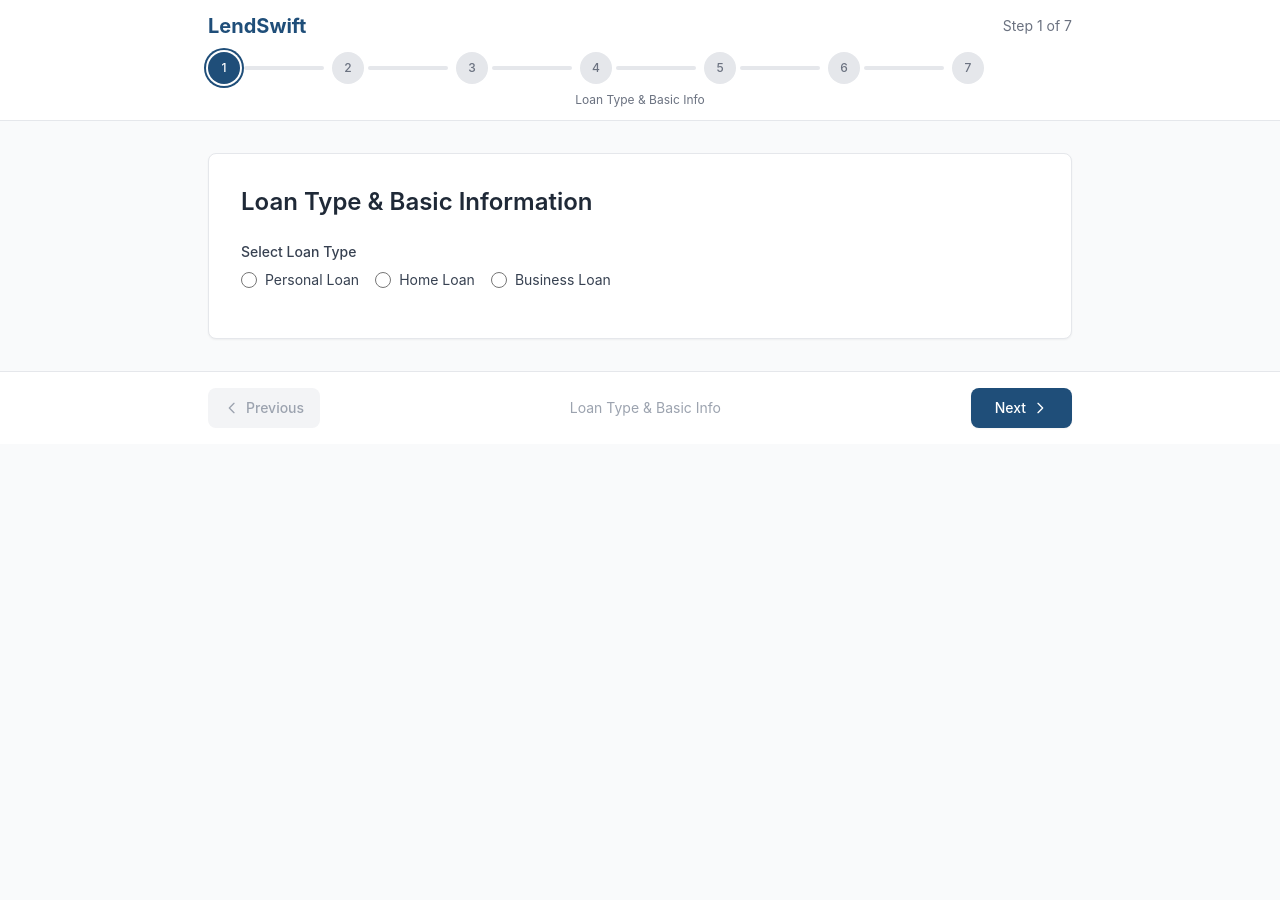
Step 2 - Personal Info Validation › shows all required field errors on empty submit
The width and height of the screenshot is (1280, 900).
Check the radio button labelled "Personal Loan" at coordinates (249, 280), box 241,272 -> 257,288
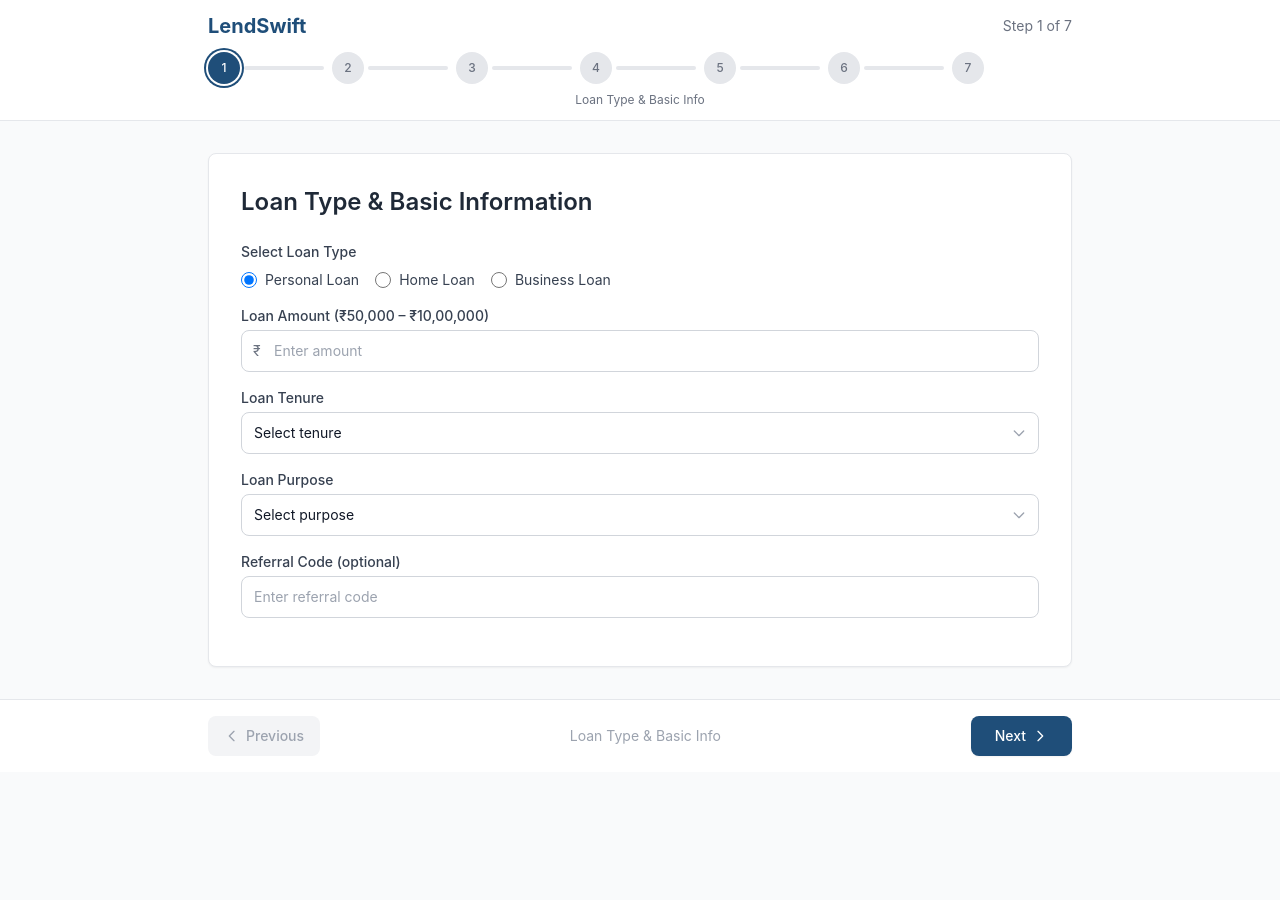
Type "500000" into the field labelled "Loan Amount (₹50,000 – ₹10,00,000)" at coordinates (640, 351), box 241,330 -> 1039,372
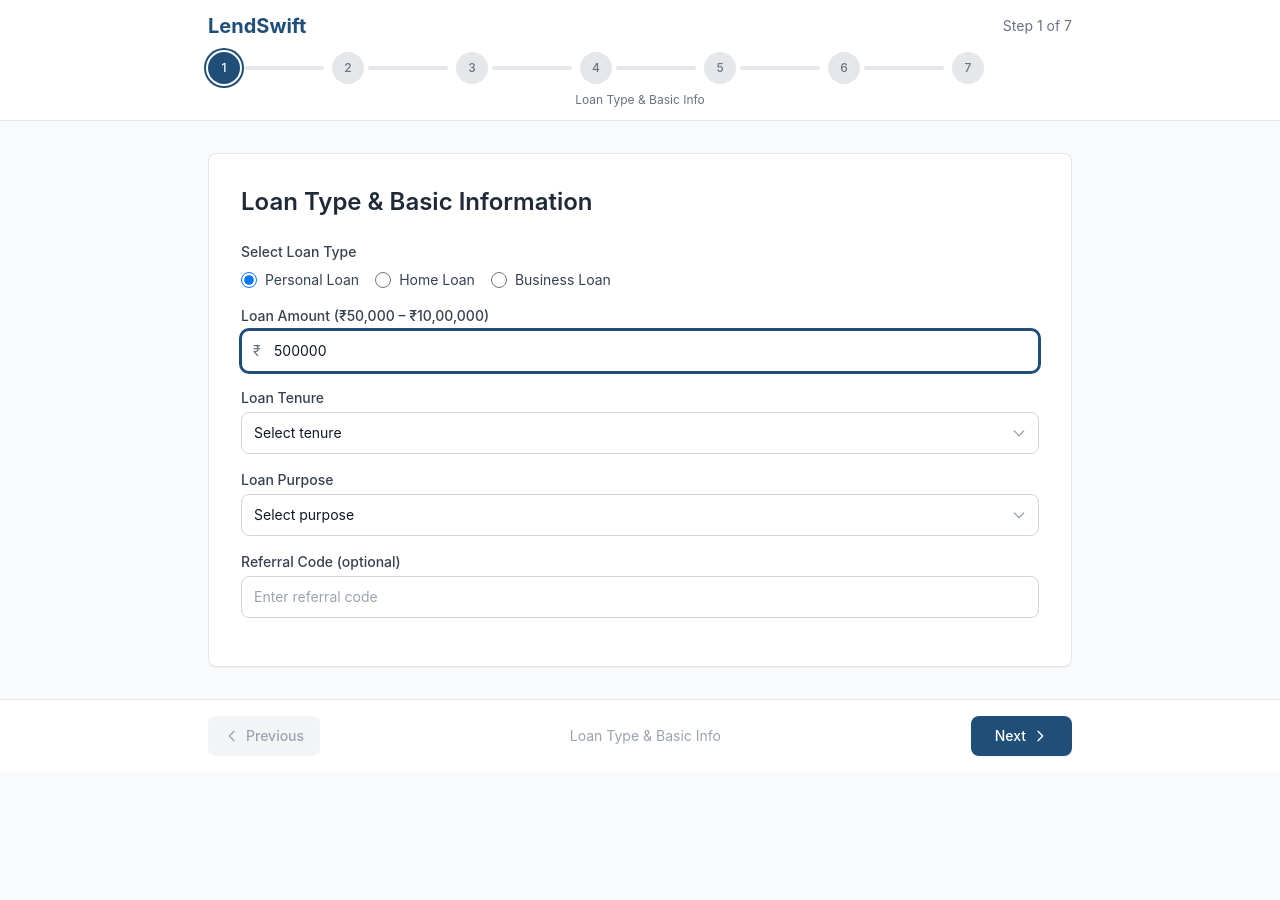
Select "36 months (3yr)" in the dropdown labelled "Loan Tenure" at coordinates (640, 433), box 241,412 -> 1039,454
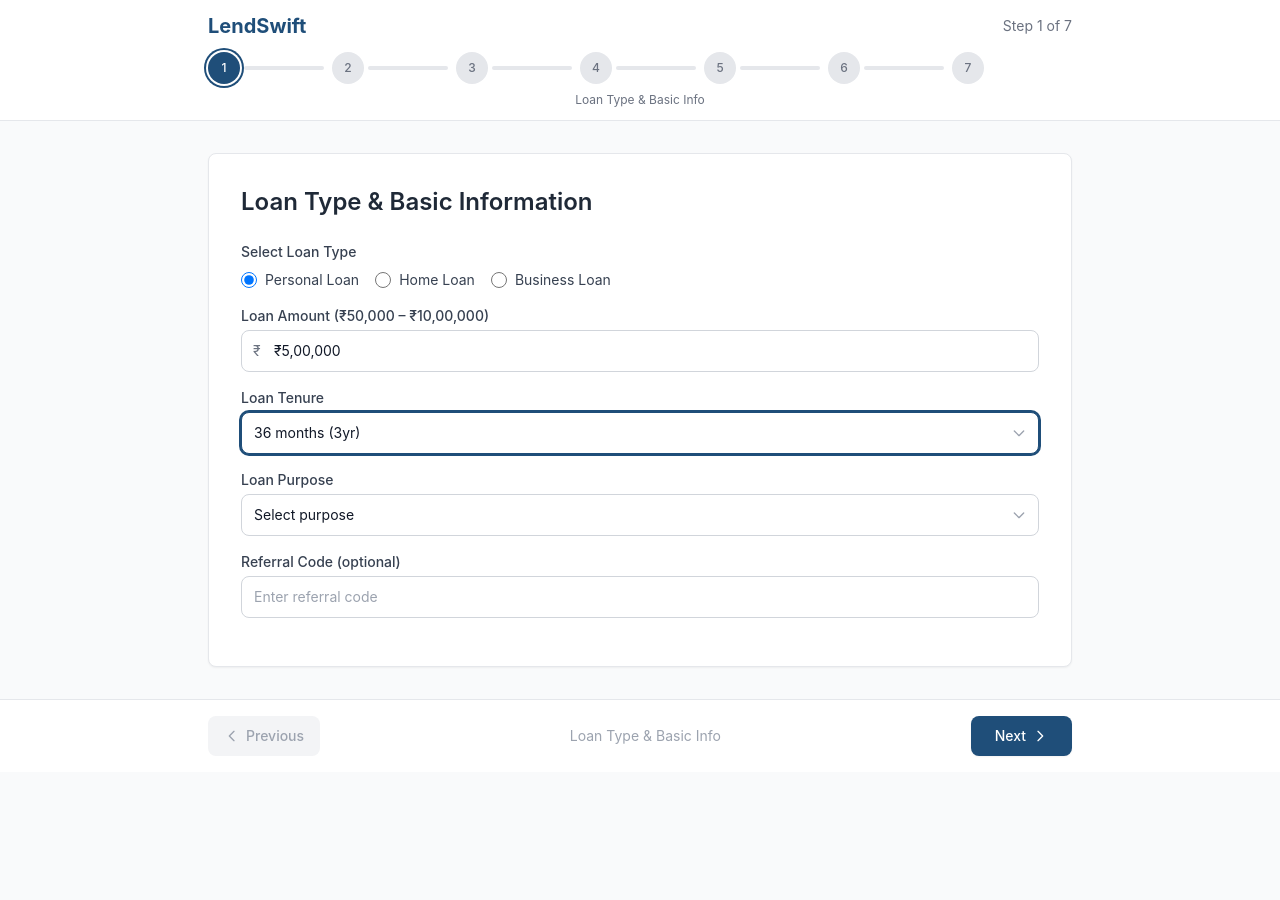
Select "Debt Consolidation" in the dropdown labelled "Loan Purpose" at coordinates (640, 515), box 241,494 -> 1039,536
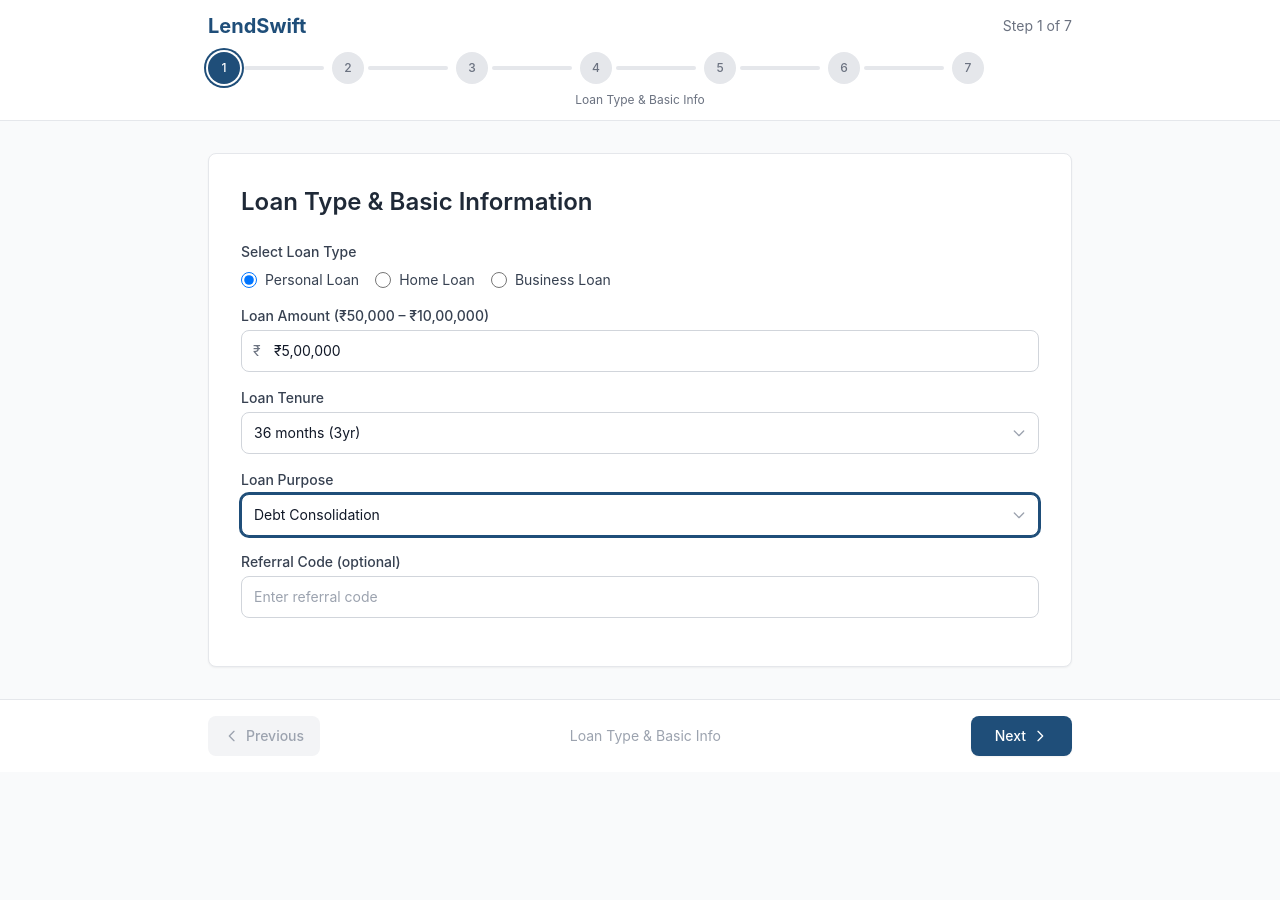
Click the button "Next" at coordinates (1022, 736), box 971,716 -> 1072,756
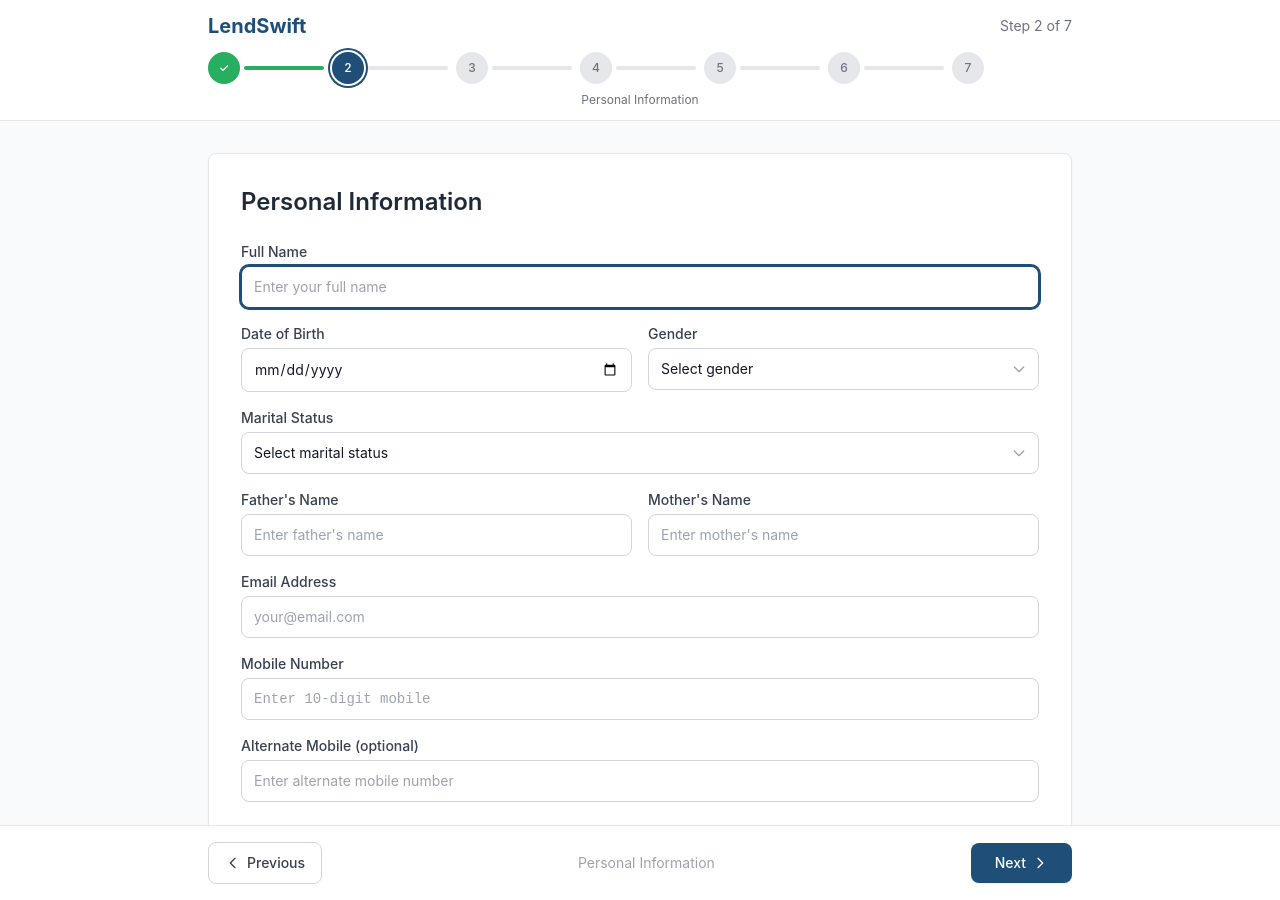
Click the button "Next" at coordinates (1022, 863), box 971,843 -> 1072,883
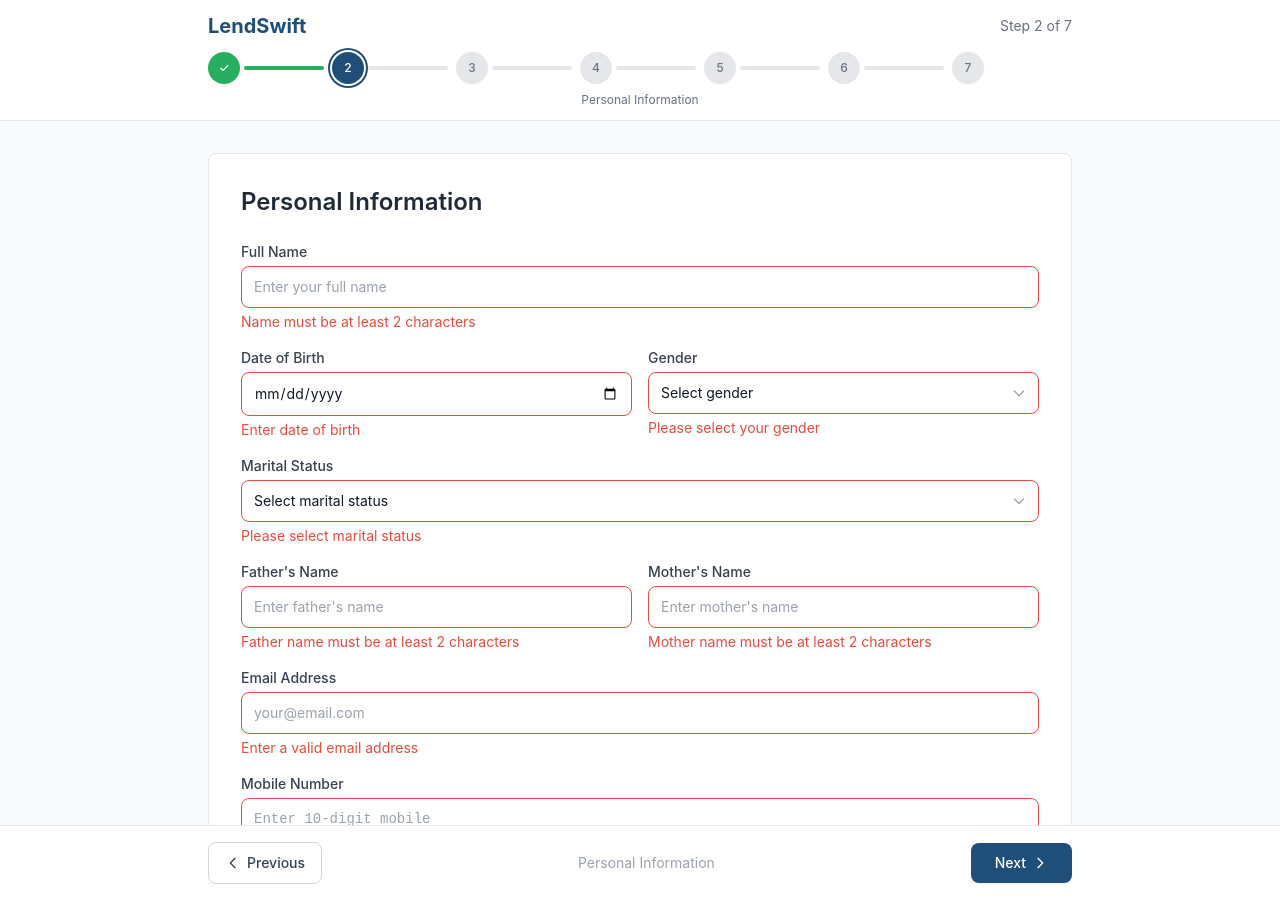
Result: the text "Name must be at least 2 characters" is shown at 241,313 -> 476,330
Result: the text "Enter date of birth" is shown at 241,421 -> 360,438
Result: the text "Please select your gender" is shown at 648,419 -> 820,436
